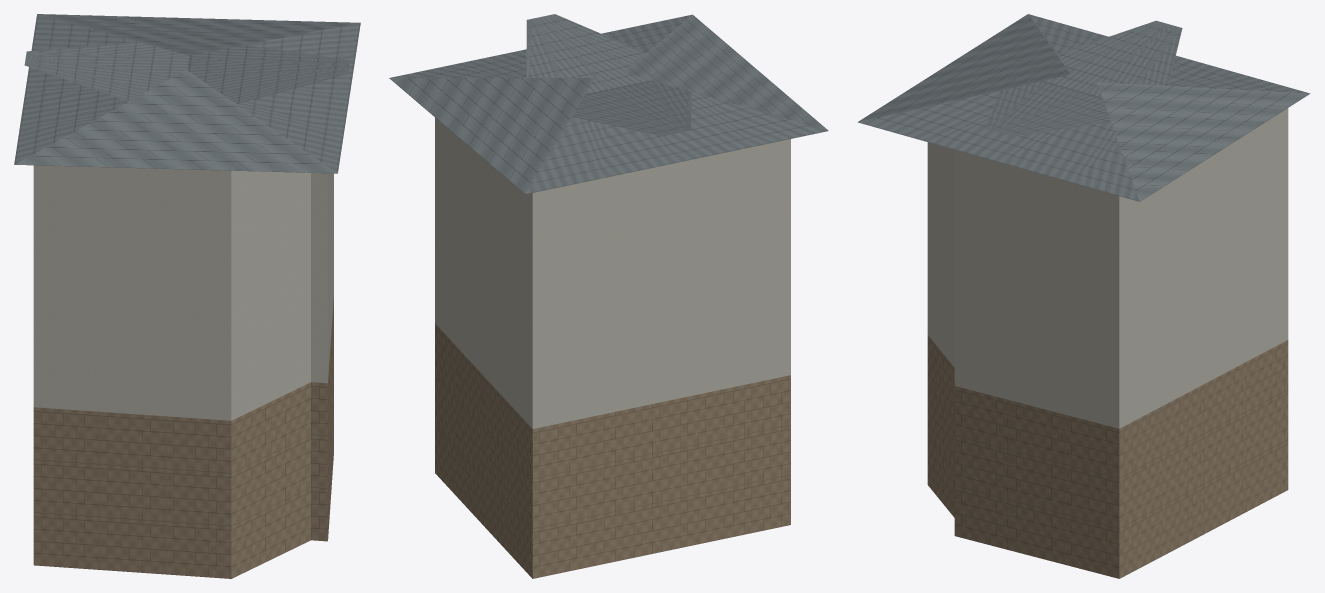
Rendered from bld_c21_45_393.gltf.
The picture shows the model from 3 angles, left to right: view 1: azimuth 30°, elevation 25°; view 2: azimuth 150°, elevation 25°; view 3: azimuth 270°, elevation 25°; orthographic projection. The views are drawn at different scales.
Parts seen in each view (by area): view 1: bld_c21_45_393; view 2: bld_c21_45_393; view 3: bld_c21_45_393.
Part boxes in pixels (bbox=[...]): bld_c21_45_393: bbox=[14, 14, 360, 578]; bld_c21_45_393: bbox=[389, 14, 828, 578]; bld_c21_45_393: bbox=[858, 14, 1310, 578].
Bounding box in the file's own units: 13.69 × 14.4 × 13.96.
3 materials, 3 textured.
